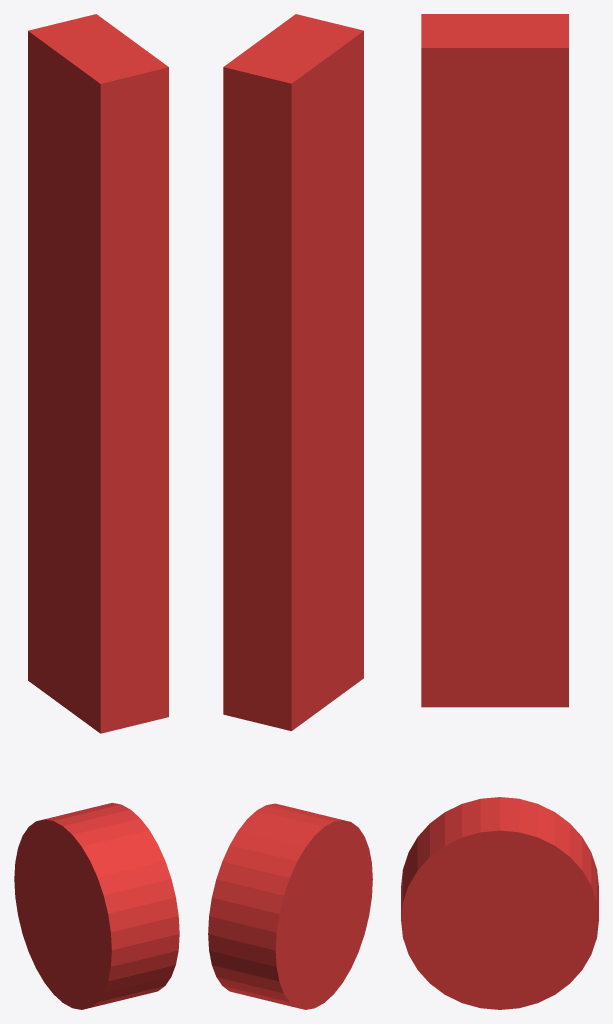
3 views of the same model, side by side, from view 1: azimuth 30°, elevation 25°; view 2: azimuth 150°, elevation 25°; view 3: azimuth 270°, elevation 25° (orthographic).
Parts seen in each view (by area): view 1: 圓柱體; view 2: 圓柱體; view 3: 圓柱體.
Part boxes in pixels (bbox=[...]): 圓柱體: bbox=[14, 14, 179, 1009]; 圓柱體: bbox=[208, 14, 372, 1009]; 圓柱體: bbox=[401, 14, 598, 1009].
Bounding box in the file's own units: 57.24 × 751 × 140.
